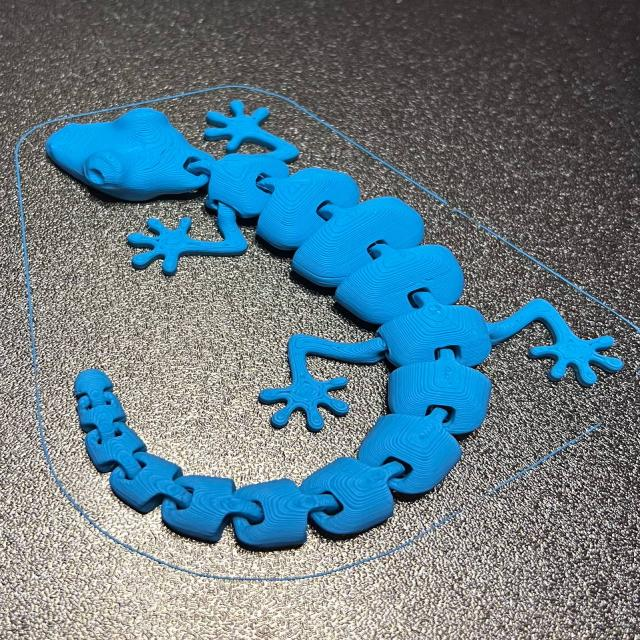Without deffect: (8, 73, 631, 596)
